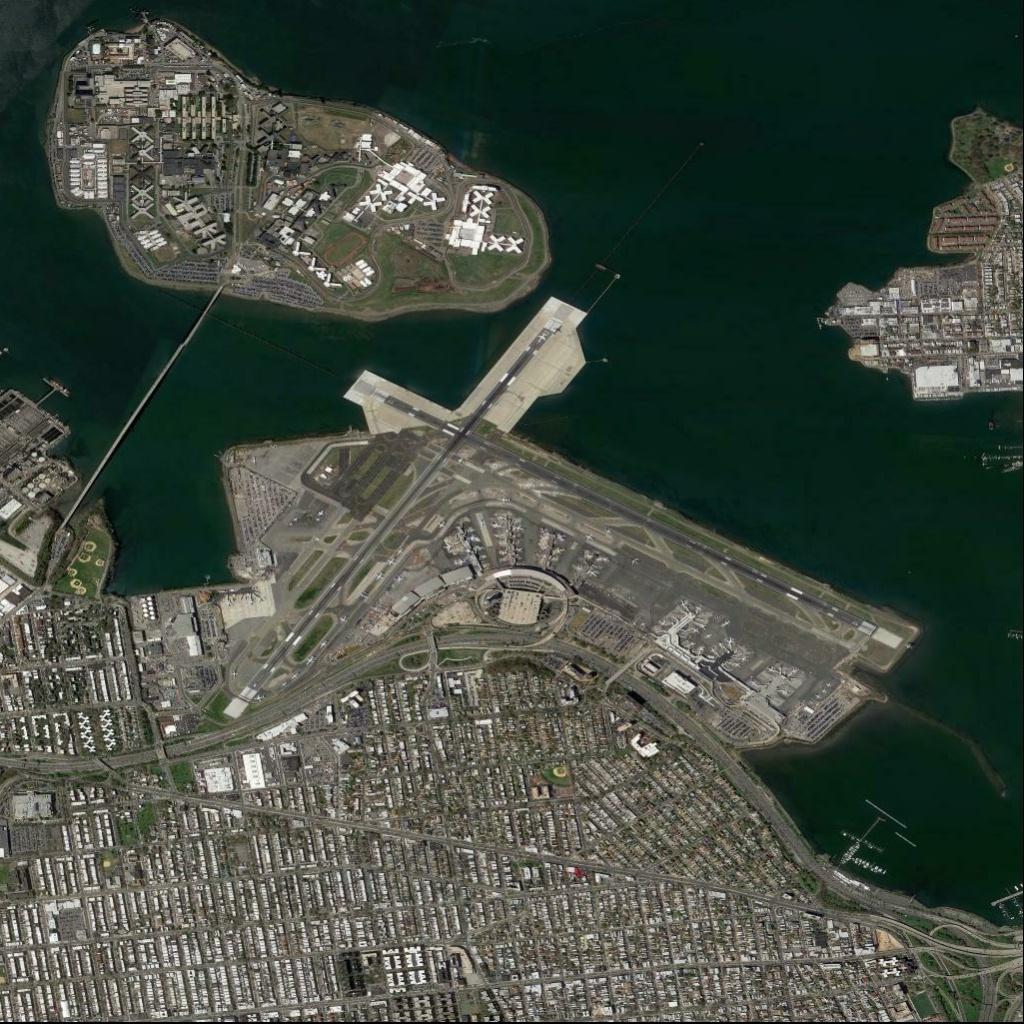harbor: (837, 817, 884, 869), (841, 829, 885, 855), (851, 855, 889, 877)
